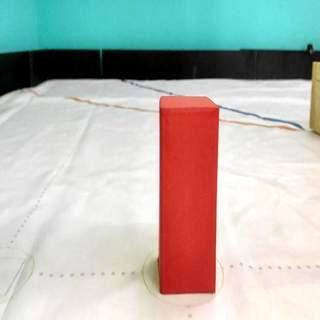redbox: (159, 96, 216, 294)
